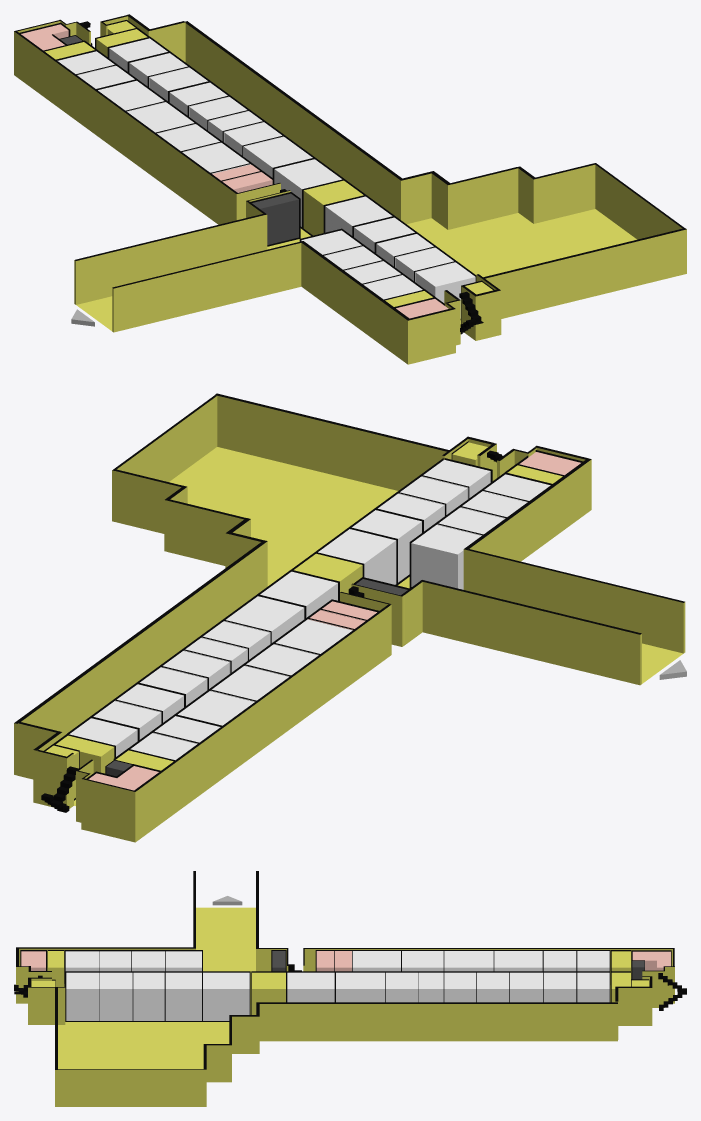
3 views of the same model, one above another, from view 1: azimuth 30°, elevation 25°; view 2: azimuth 150°, elevation 25°; view 3: azimuth 270°, elevation 25° (orthographic). The views are drawn at different scales.
Visible parts, largest first — view 1: object, エレベーター_10_5_2, object_10_5_1, room_10_5_20, room_10_5_19, room_10_5_18, room_10_5_24, room_10_5_7, room_10_5_8, room_10_5_5, room_10_5_21, room_10_5_23 (+19 smaller); view 2: object, room_10_5_4, room_10_5_20, room_10_5_18, room_10_5_19, room_10_5_21, room_10_5_7, room_10_5_5, room_10_5_8, object_10_5_1, room_10_5_24, room_10_5_23 (+18 smaller); view 3: object, room_10_5_20, room_10_5_21, room_10_5_23, room_10_5_24, room_10_5_22, room_10_5_18, room_10_5_19, object_10_5_1, room_10_5_7, room_10_5_12, room_10_5_8 (+21 smaller).
Boxes of the visible parts, bbox=[...] form: object: bbox=[14, 14, 686, 364]; エレベーター_10_5_2: bbox=[252, 193, 298, 244]; object_10_5_1: bbox=[303, 180, 363, 235]; room_10_5_20: bbox=[325, 196, 392, 235]; room_10_5_19: bbox=[274, 159, 341, 226]; room_10_5_18: bbox=[244, 137, 312, 177]; room_10_5_24: bbox=[415, 262, 475, 318]; room_10_5_7: bbox=[127, 102, 195, 133]; room_10_5_8: bbox=[98, 80, 165, 111]; room_10_5_5: bbox=[183, 143, 250, 173]; room_10_5_21: bbox=[354, 217, 414, 251]; room_10_5_23: bbox=[395, 248, 455, 281]; object: bbox=[14, 393, 685, 842]; room_10_5_4: bbox=[411, 525, 481, 589]; room_10_5_20: bbox=[318, 529, 396, 584]; room_10_5_18: bbox=[224, 596, 304, 644]; room_10_5_19: bbox=[260, 571, 337, 617]; room_10_5_21: bbox=[352, 510, 421, 582]; room_10_5_7: bbox=[210, 666, 288, 701]; room_10_5_5: bbox=[274, 619, 352, 655]; room_10_5_8: bbox=[178, 691, 254, 725]; object_10_5_1: bbox=[294, 553, 362, 593]; room_10_5_24: bbox=[421, 460, 490, 499]; room_10_5_23: bbox=[398, 476, 467, 516]; object: bbox=[16, 871, 674, 1106]; room_10_5_20: bbox=[203, 972, 249, 1020]; room_10_5_21: bbox=[165, 972, 201, 1020]; room_10_5_23: bbox=[99, 972, 132, 1020]; room_10_5_24: bbox=[66, 972, 99, 1020]; room_10_5_22: bbox=[133, 972, 164, 1020]; room_10_5_18: bbox=[336, 972, 385, 1002]; room_10_5_19: bbox=[287, 972, 334, 1002]; object_10_5_1: bbox=[252, 972, 285, 1014]; room_10_5_7: bbox=[444, 951, 493, 971]; room_10_5_12: bbox=[543, 972, 576, 1002]; room_10_5_8: bbox=[494, 951, 542, 971].
Bounding box in the file's own units: 1.99 × 0.1727 × 2.72.
